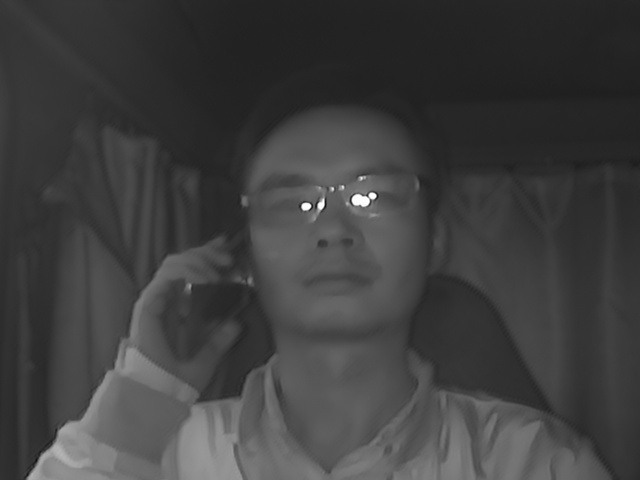hand: (136, 234, 240, 378)
